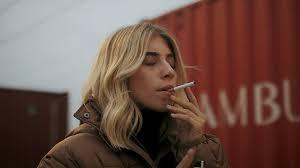smoke: (168, 80, 197, 92)
